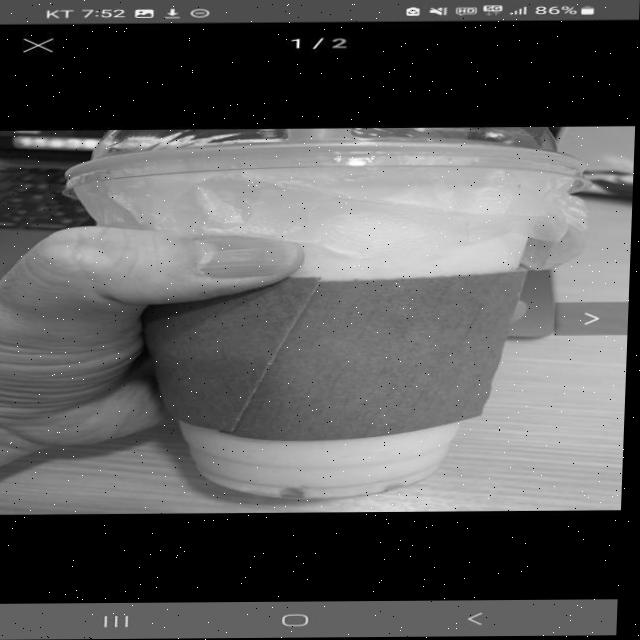cup: (45, 133, 560, 505)
